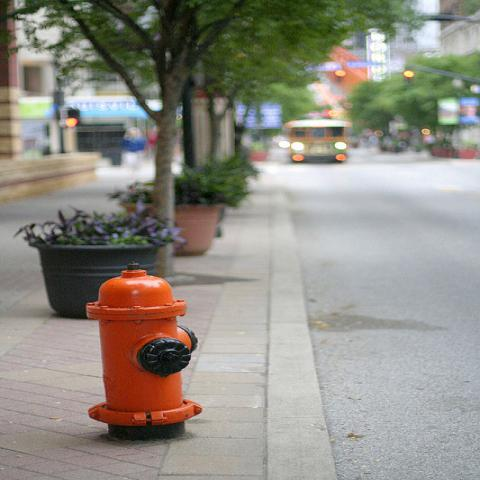bus: (286, 118, 350, 162)
